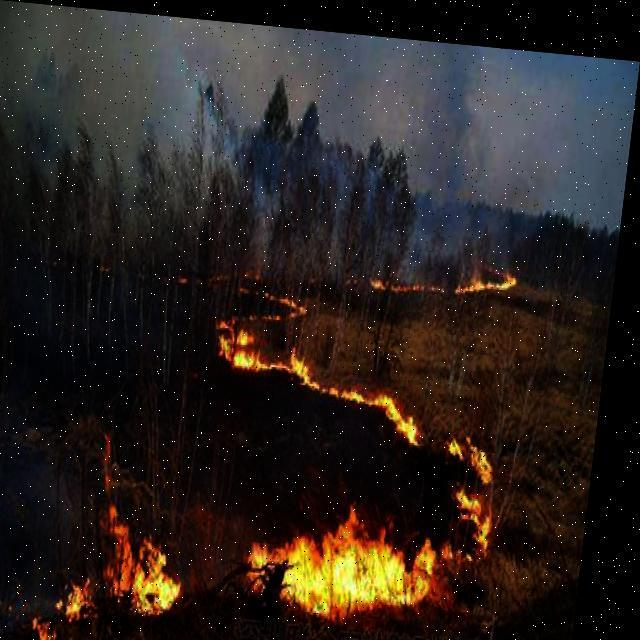Fire: (200, 235, 530, 622), (47, 453, 209, 639)
